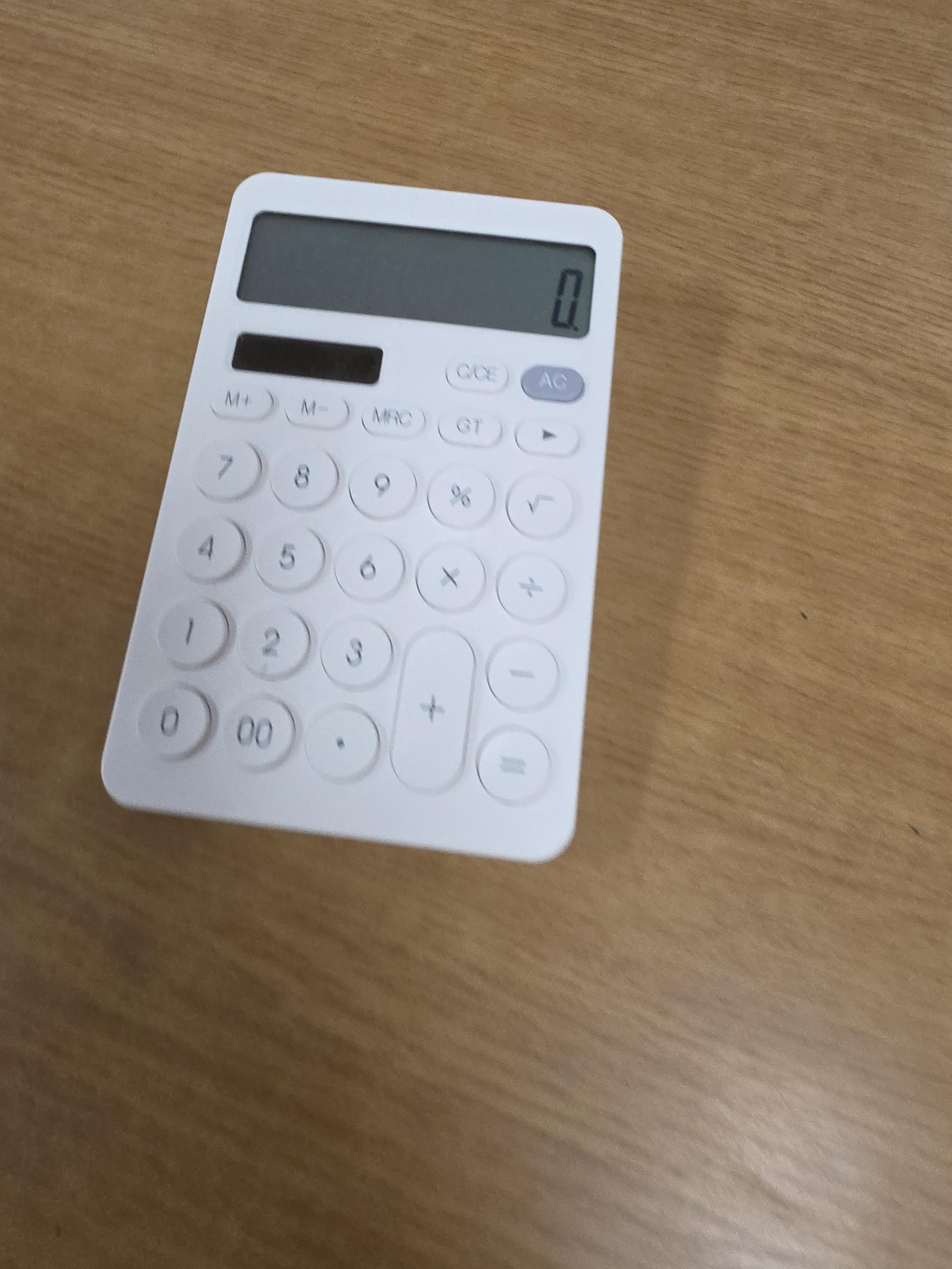calculator: (100, 172, 625, 865)
